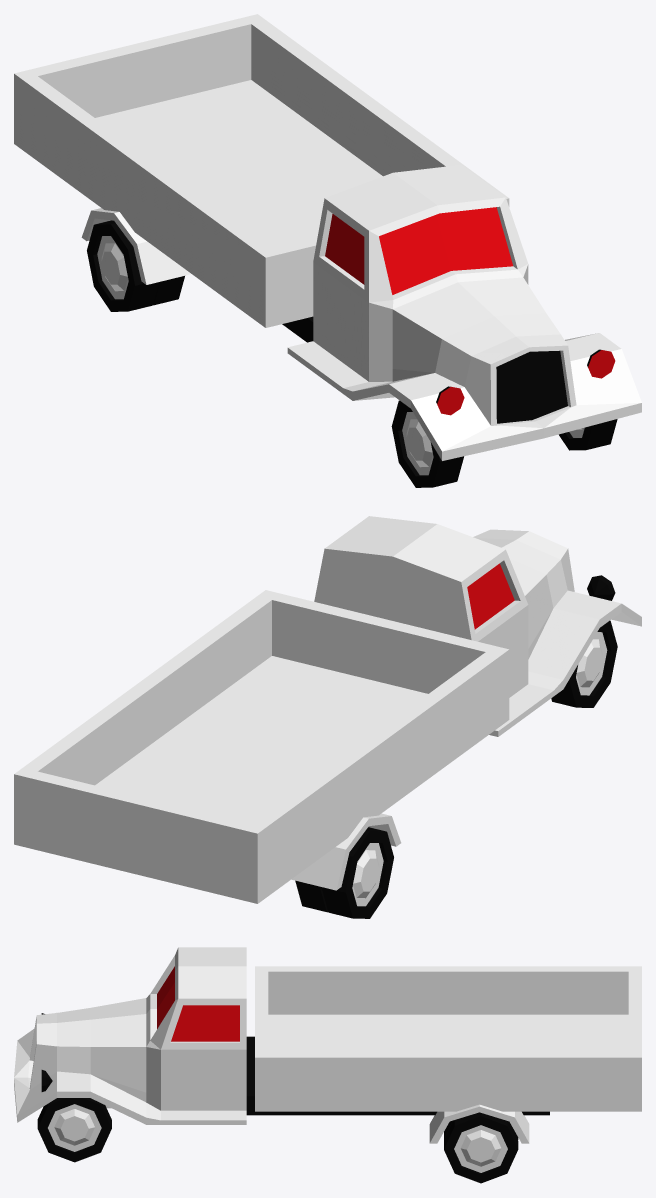
File: Truck.fbx
The picture shows the model from 3 angles, top to bottom: view 1: azimuth 30°, elevation 25°; view 2: azimuth 150°, elevation 25°; view 3: azimuth 270°, elevation 25°; orthographic projection. The views are drawn at different scales.
Visible parts, largest first — view 1: mesh_Truck_01; view 2: mesh_Truck_01; view 3: mesh_Truck_01.
Part boxes in pixels (box(x1,y1,x2,y2)): mesh_Truck_01: box(14, 14, 641, 487); mesh_Truck_01: box(14, 516, 641, 918); mesh_Truck_01: box(14, 947, 641, 1183).
Size of the model in its own units: 67.14 by 54.28 by 183.
